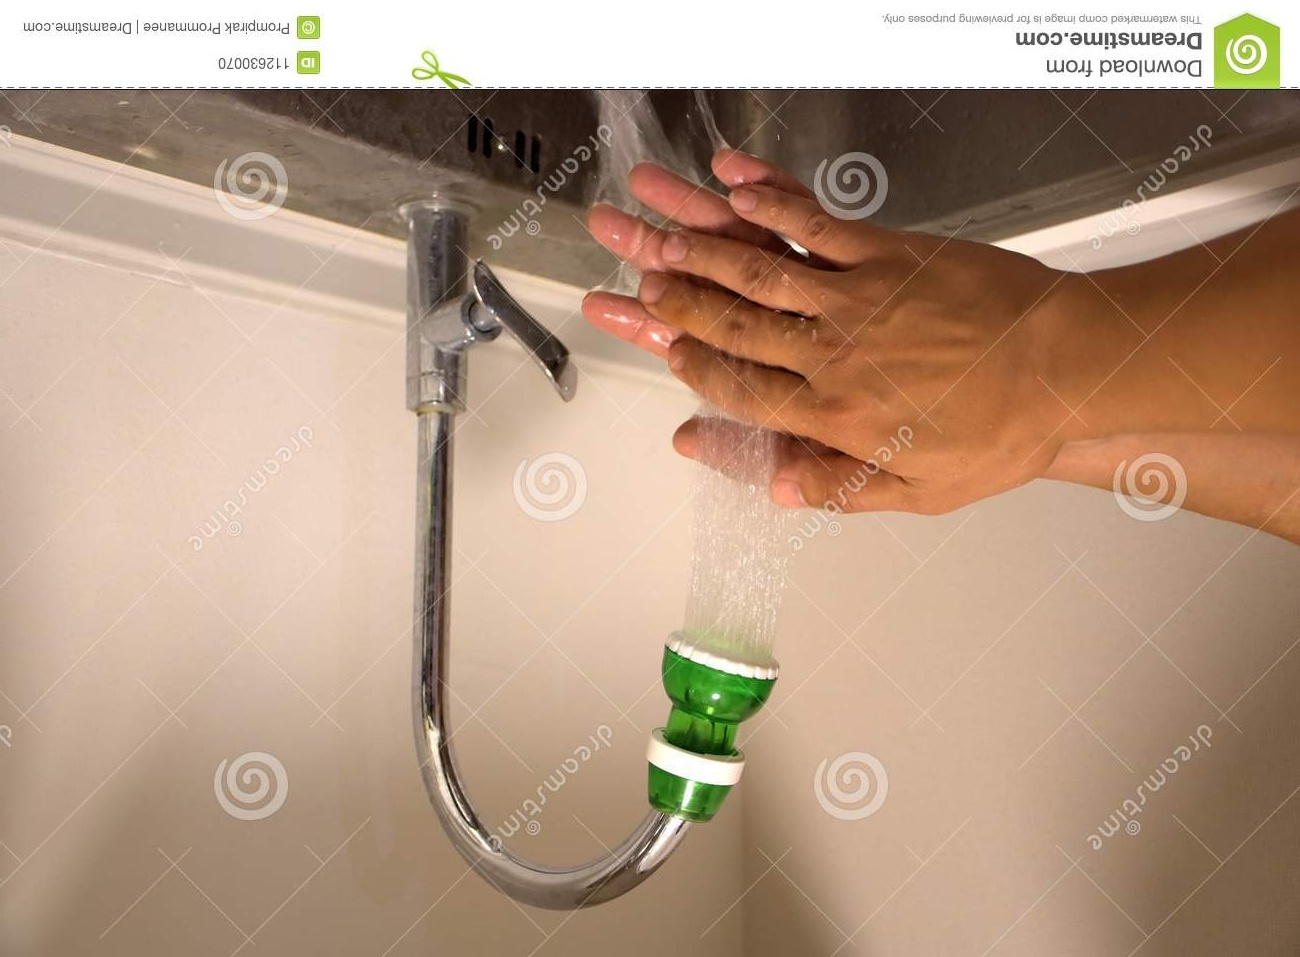washing hand: (381, 127, 1005, 909)
